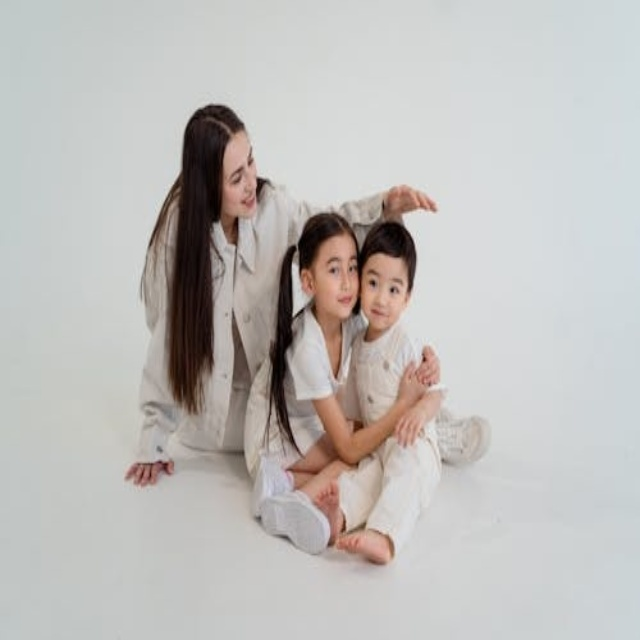Sin_gafas: (364, 263, 412, 306), (221, 140, 260, 190), (314, 248, 362, 277)
Sin_guantes: (380, 171, 440, 221), (398, 382, 439, 454), (393, 357, 431, 411), (415, 342, 447, 390), (125, 459, 171, 486)
Sin_mascara: (233, 185, 259, 221), (328, 288, 356, 319), (364, 302, 392, 331)
